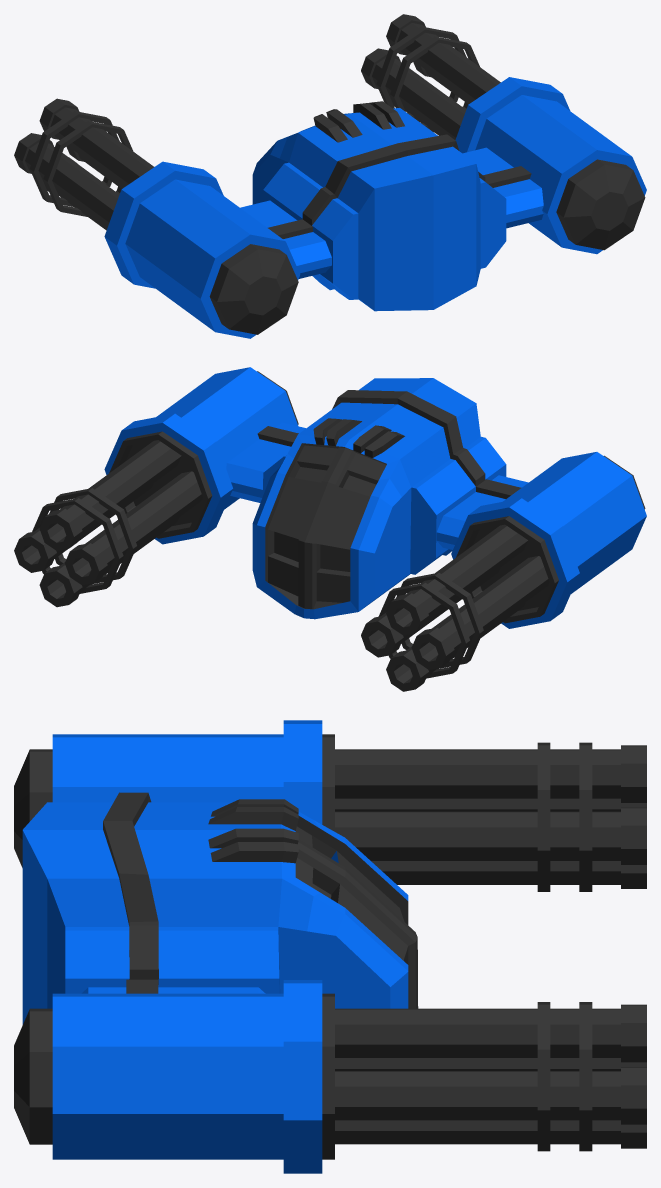
File: turret2head.fbx
3 renders of one model, top to bottom at view 1: azimuth 30°, elevation 25°; view 2: azimuth 150°, elevation 25°; view 3: azimuth 270°, elevation 25°, orthographic. The views are drawn at different scales.
Visible parts, largest first — view 1: Cube.003; view 2: Cube.003; view 3: Cube.003.
Boxes of the visible parts, box(x1,y1,x2,y2) form: Cube.003: box(14, 14, 646, 338); Cube.003: box(14, 367, 646, 691); Cube.003: box(14, 720, 646, 1173).
Bounding box in the file's own units: 227 × 71.12 × 175.
